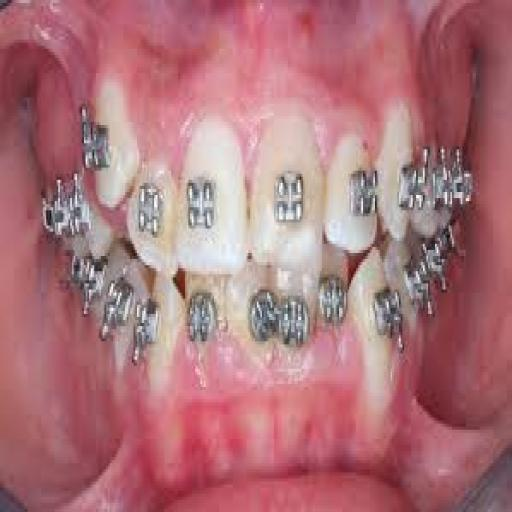correct_brace: (270, 161, 308, 230), (180, 170, 219, 236), (346, 160, 380, 222)
incorrect_brace: (326, 126, 380, 258)
